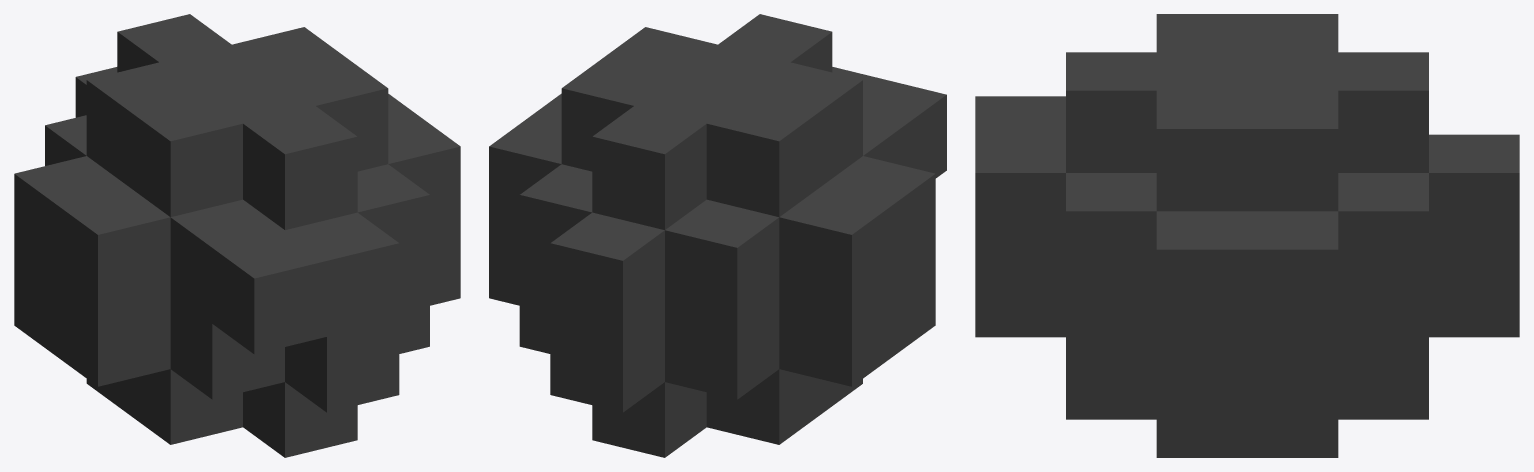
The model's file is Stone and paper-1.obj.
3 renders of one model, left to right at view 1: azimuth 30°, elevation 25°; view 2: azimuth 150°, elevation 25°; view 3: azimuth 270°, elevation 25°, orthographic. The views are drawn at different scales.
Bounding box in the file's own units: 0.5 × 0.4 × 0.6.
Materials: 1 (1 with a texture image).
